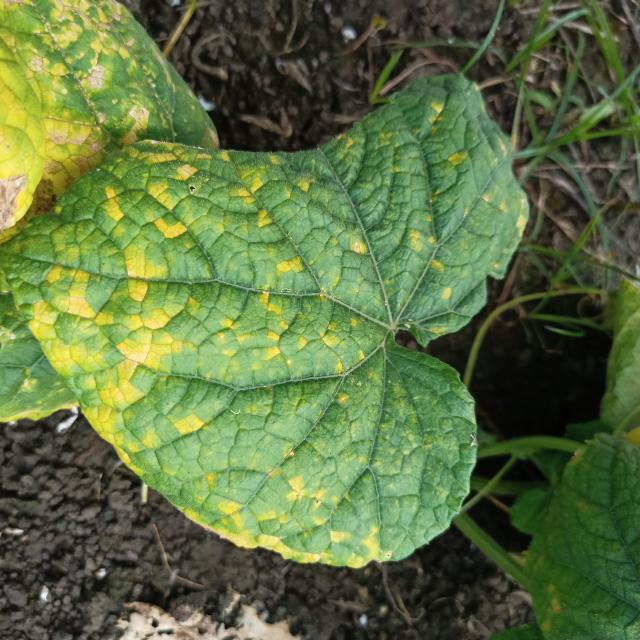disease_cucumber: (11, 82, 522, 560)
